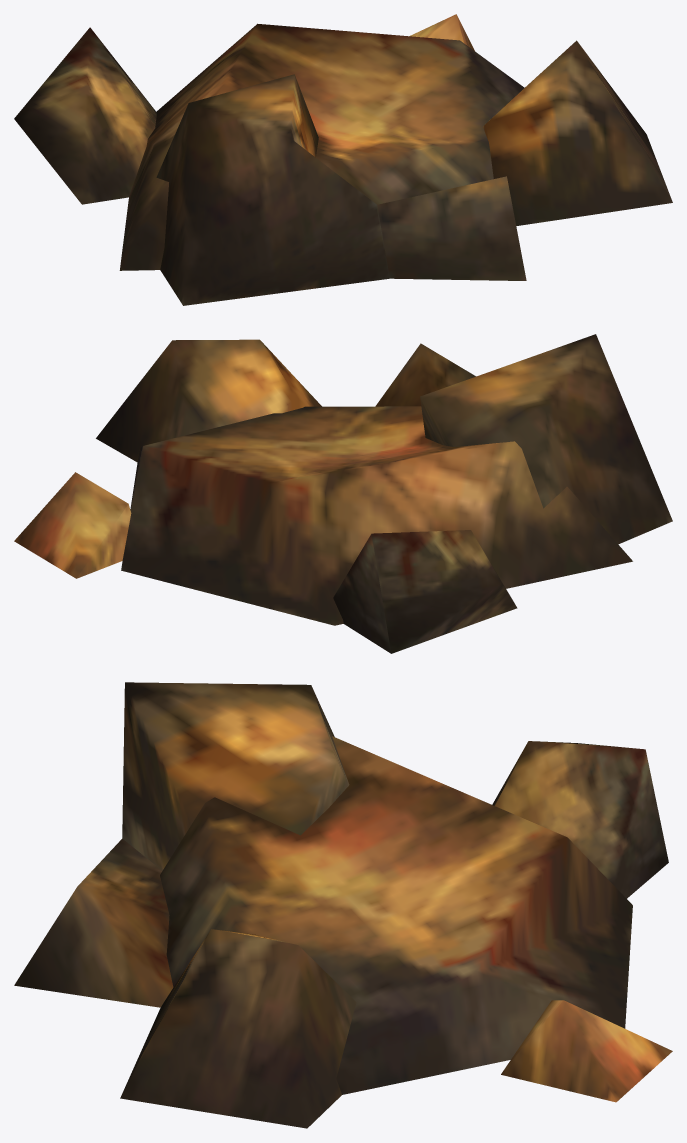
The model's file is cave_campfire_01.fbx.
3 views of the same model, one above another, from view 1: azimuth 30°, elevation 25°; view 2: azimuth 150°, elevation 25°; view 3: azimuth 270°, elevation 25° (orthographic). The views are drawn at different scales.
Parts seen in each view (by area): view 1: tribal_spit_01_mat; view 2: tribal_spit_01_mat; view 3: tribal_spit_01_mat.
Part boxes in pixels (<box>): tribal_spit_01_mat: <box>14,14,672,305</box>; tribal_spit_01_mat: <box>14,334,672,653</box>; tribal_spit_01_mat: <box>14,682,672,1128</box>.
Size of the model in its own units: 1.52 by 0.4233 by 1.33.
